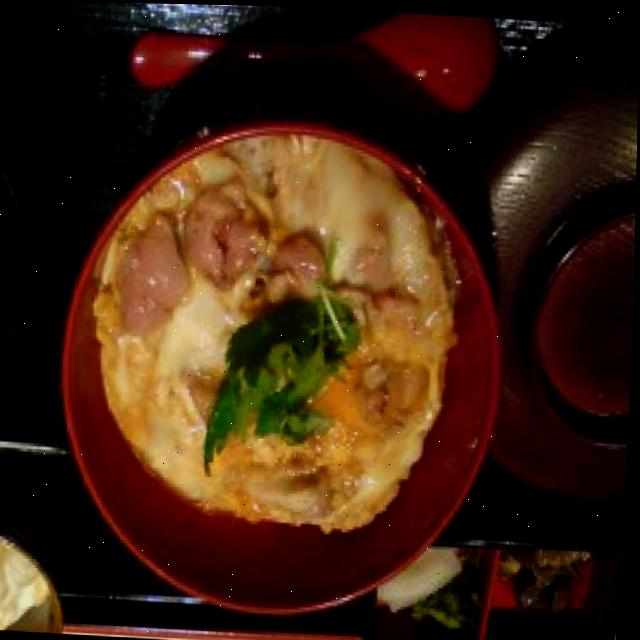米饭主食: (48, 93, 521, 632)
